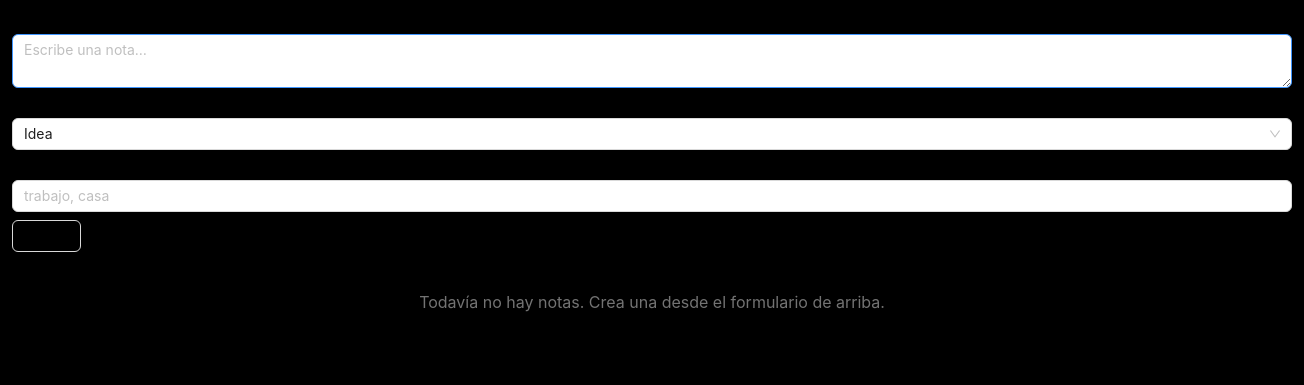
Test case: NotesView › un fallo al crear avisa y conserva el borrador
The width and height of the screenshot is (1304, 385).
Type "comprar pan" into the text box labelled "Contenido".
click(652, 61); type("comprar pan")  # box [12,34,1292,88]
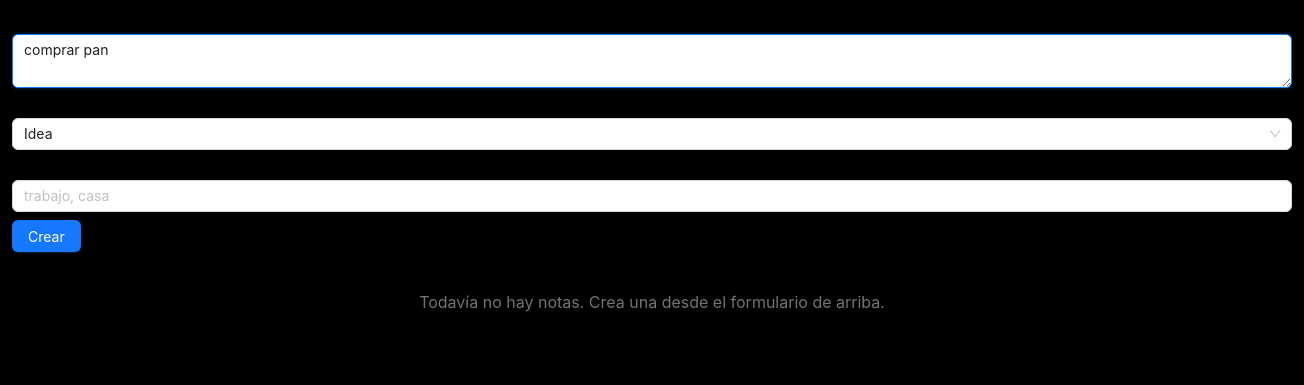
Click the button "Crear".
click(46, 236)  # box [12,220,81,252]
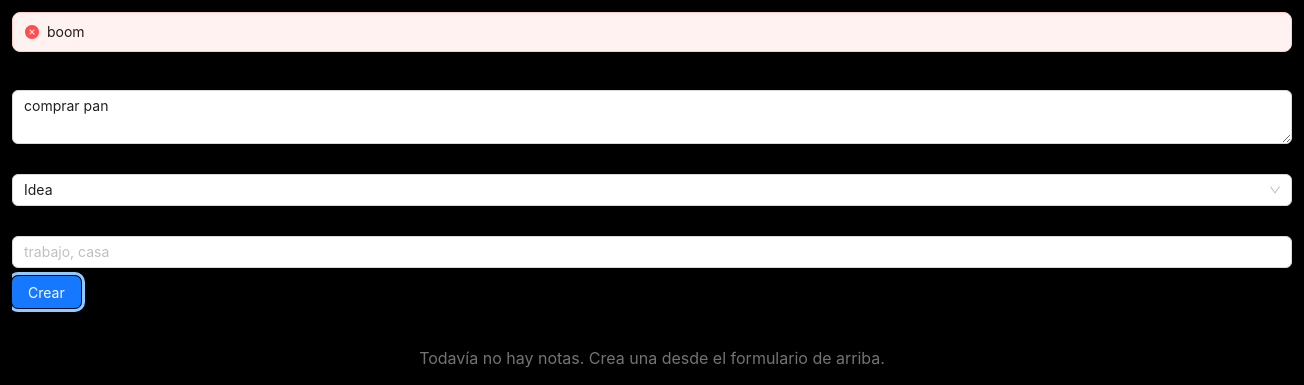
Now the text "boom" is shown, box [47,23,85,40]
